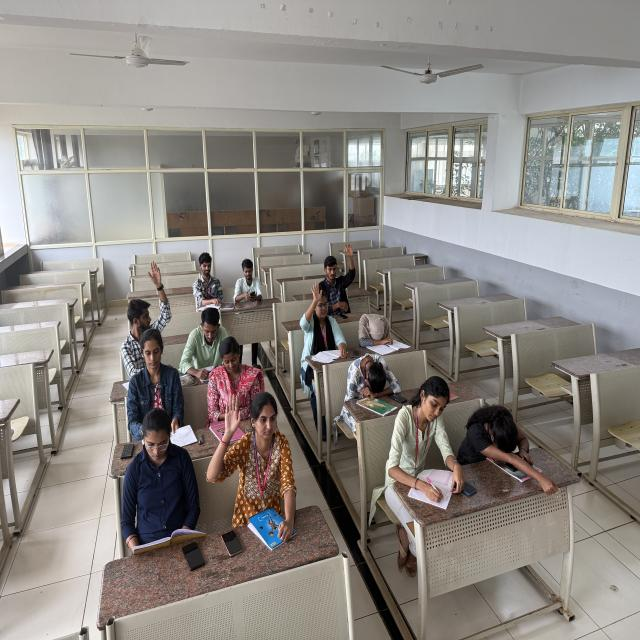Hand Rising: (209, 385, 297, 522), (114, 252, 176, 362), (297, 276, 345, 368), (320, 236, 360, 320)
Reading: (116, 408, 214, 548), (120, 328, 195, 432), (182, 306, 234, 368)
Sleeping: (456, 396, 548, 474), (342, 349, 401, 412), (354, 312, 399, 349)
Using Phone: (207, 334, 265, 418), (230, 254, 266, 304)
Writing: (377, 372, 457, 520)
